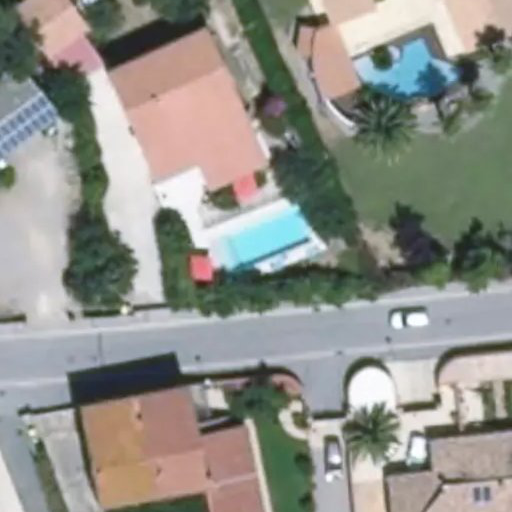pool: (203, 240, 308, 244)
